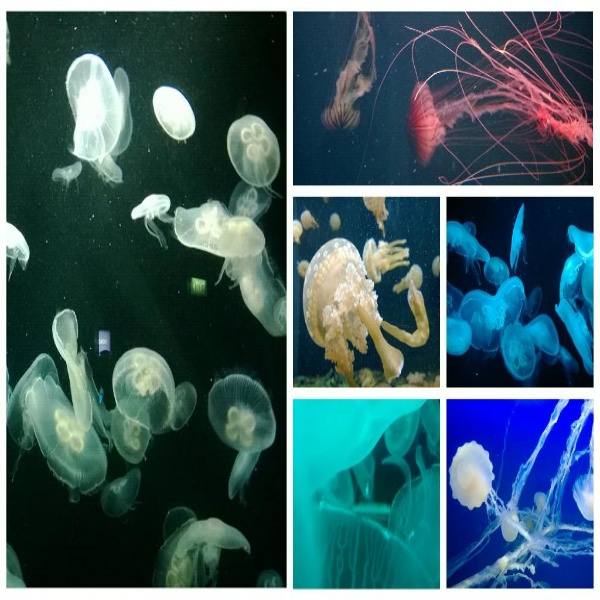Jellyfish: (6, 310, 196, 522), (406, 12, 591, 191), (446, 401, 593, 591), (445, 206, 596, 386), (302, 235, 428, 386), (175, 198, 265, 291), (323, 8, 376, 131), (165, 518, 250, 594), (66, 53, 120, 169), (207, 370, 277, 453), (228, 260, 288, 342), (226, 113, 282, 191), (359, 234, 408, 294), (150, 85, 197, 142), (132, 195, 176, 250), (113, 65, 133, 157), (230, 184, 273, 222), (228, 451, 257, 505), (6, 222, 29, 282), (389, 260, 424, 298), (86, 151, 122, 185), (52, 160, 88, 190), (300, 207, 318, 229)
